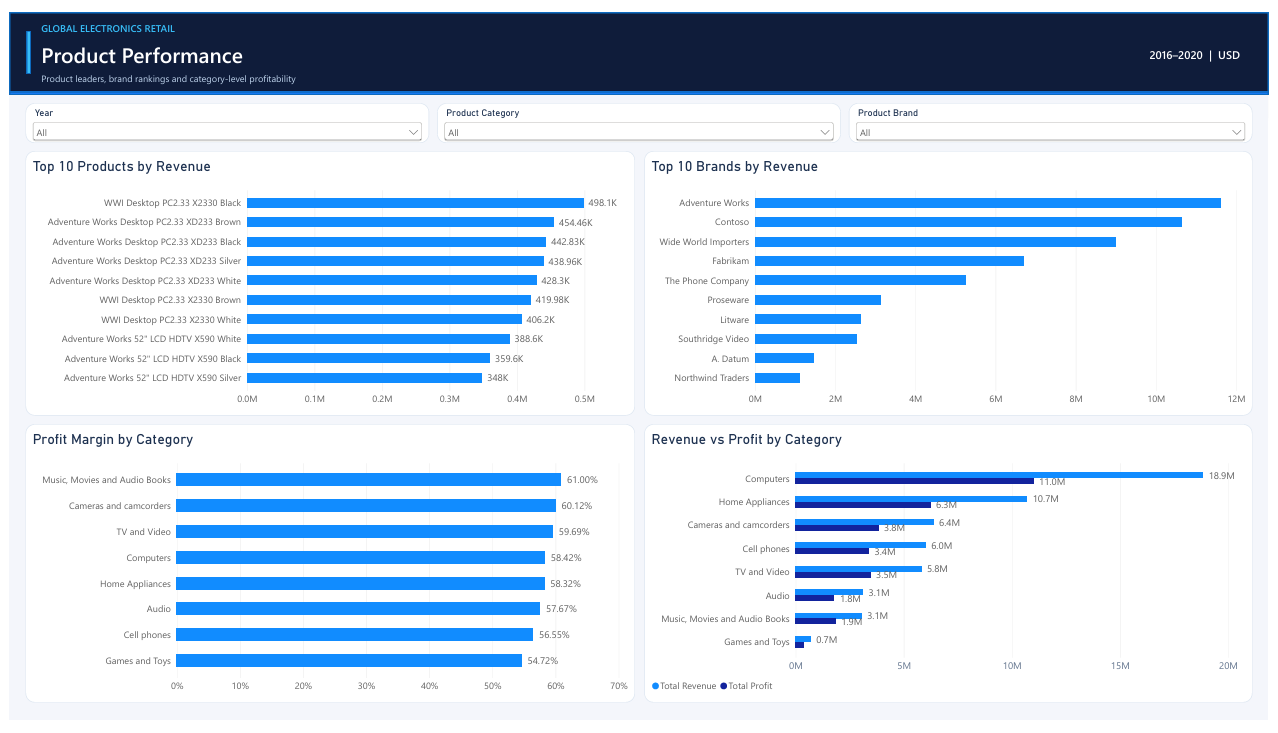

The dashboard page shown, as its layout file describes it:
{"tool":"powerbi","page":{"name":"Product Performance","canvas":[1920,1080],"ordinal":2},"visuals":[{"type":"clusteredBarChart","title":"Top 10 Brands by Revenue","fields":{"Category":["public products.brand"],"Y":["public sales.Total Revenue"]},"box":[968,211,928,404],"z":0},{"type":"shape","box":[0,0,1920,121],"z":1000},{"type":"shape","box":[0,121,1920,4],"z":2000},{"type":"shape","box":[26,28,6,65],"z":3000},{"type":"clusteredBarChart","title":"Top 10 Products by Revenue","fields":{"Category":["public products.product_name"],"Y":["public sales.Total Revenue"]},"box":[24,211,930,404],"z":4000},{"type":"clusteredBarChart","title":"Profit Margin by Category","fields":{"Category":["public products.category"],"Y":["public sales.Profit Margin %"]},"box":[24,628,930,425],"z":5000},{"type":"clusteredBarChart","title":"Revenue vs Profit by Category","fields":{"Category":["public products.category"],"Y":["public sales.Total Revenue","public sales.Total Profit"]},"box":[968,628,928,425],"z":6000},{"type":"slicer","fields":{"Values":["DimDate.Year"]},"box":[24,138,616,61],"z":7000},{"type":"slicer","fields":{"Values":["public products.category"]},"box":[652,138,616,61],"z":8000},{"type":"slicer","fields":{"Values":["public products.brand"]},"box":[1280,138,616,61],"z":9000},{"type":"textbox","box":[48,13,1330,27],"z":10000},{"type":"textbox","box":[48,42,1450,43],"z":11000},{"type":"textbox","box":[48,91,1330,25],"z":12000},{"type":"textbox","box":[1545,52,332,43],"z":13000},{"type":"textbox","box":[26,1057,1840,22],"z":14000}]}

Visuals, with their boxes in screenshot pixels (x1, y1, x2, y2), scaled from the page's 1920x1080 canvas onto the 1278x733 screenshot:
"Top 10 Brands by Revenue" clusteredBarChart: [644,143,1262,417]
shape: [0,0,1277,82]
shape: [0,82,1277,85]
shape: [17,19,21,63]
"Top 10 Products by Revenue" clusteredBarChart: [16,143,635,417]
"Profit Margin by Category" clusteredBarChart: [16,426,635,715]
"Revenue vs Profit by Category" clusteredBarChart: [644,426,1262,715]
slicer - DimDate.Year: [16,94,426,135]
slicer - public products.category: [434,94,844,135]
slicer - public products.brand: [852,94,1262,135]
textbox: [32,9,917,27]
textbox: [32,29,997,58]
textbox: [32,62,917,79]
textbox: [1028,35,1249,64]
textbox: [17,717,1242,732]
